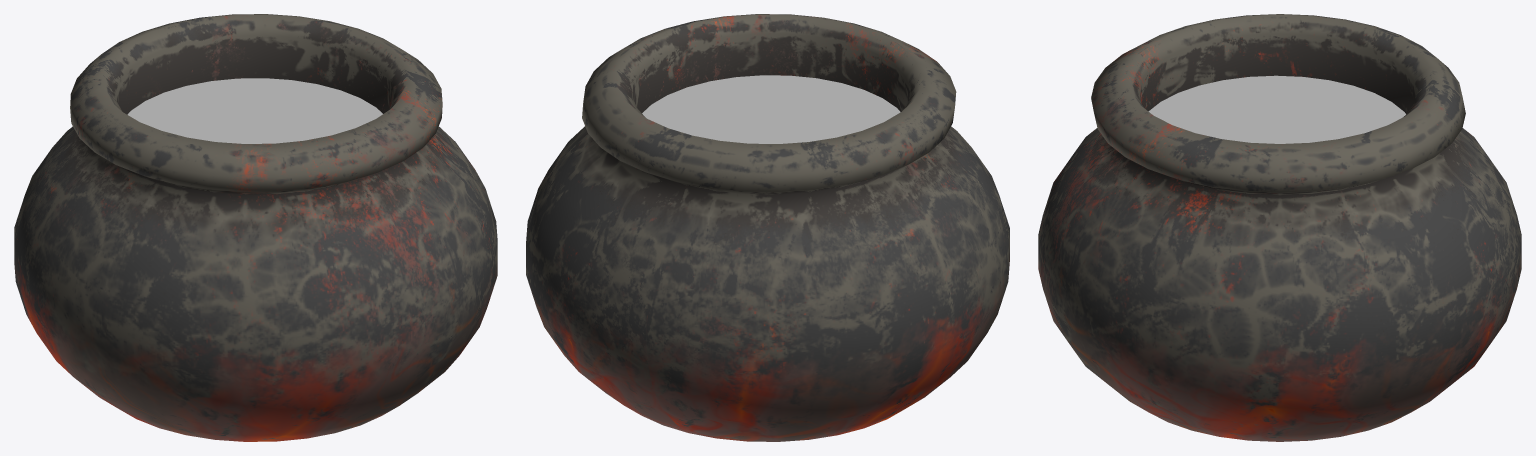
File: pot.fbx
The picture shows the model from 3 angles, left to right: view 1: azimuth 30°, elevation 25°; view 2: azimuth 150°, elevation 25°; view 3: azimuth 270°, elevation 25°; orthographic projection.
Parts seen in each view (by area): view 1: Cylinder.003, Cylinder.005; view 2: Cylinder.003, Cylinder.005; view 3: Cylinder.003, Cylinder.005.
Boxes of the visible parts, bbox=[...] form: Cylinder.003: bbox=[14, 14, 497, 441]; Cylinder.005: bbox=[127, 78, 382, 143]; Cylinder.003: bbox=[526, 14, 1009, 441]; Cylinder.005: bbox=[642, 75, 900, 143]; Cylinder.003: bbox=[1038, 14, 1521, 441]; Cylinder.005: bbox=[1148, 75, 1405, 143].
Size of the model in its own units: 232 by 156 by 232.
